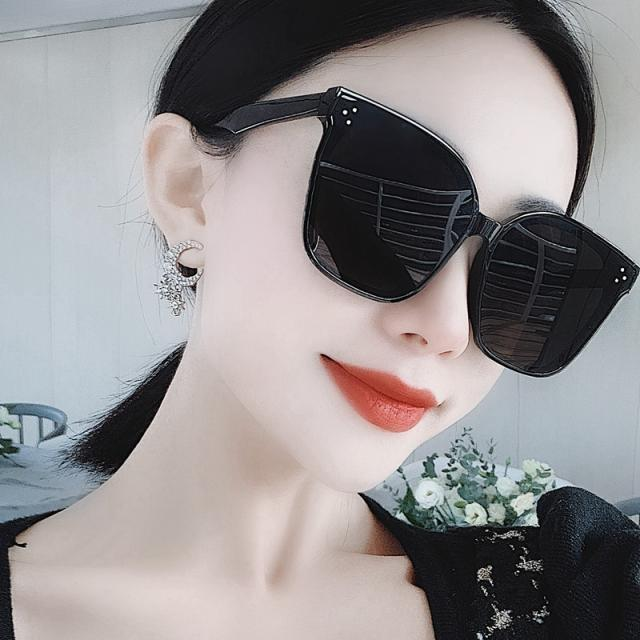2_gafas: (222, 88, 640, 377)
